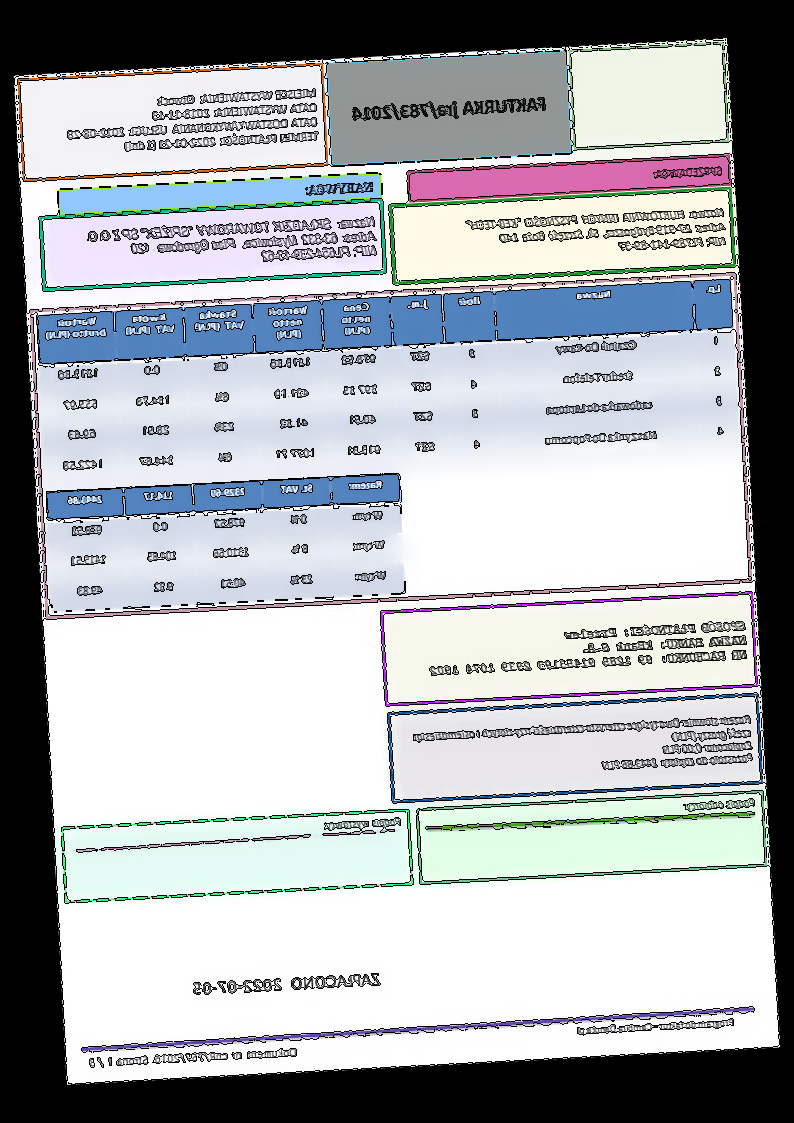Table: (36, 276, 742, 488), (46, 471, 407, 612)
TextBox: (410, 711, 756, 784), (427, 616, 748, 680), (85, 211, 380, 276), (62, 84, 321, 158), (465, 203, 729, 264), (349, 93, 550, 125), (193, 968, 383, 998), (87, 1044, 299, 1070), (574, 1014, 737, 1037), (322, 813, 405, 834), (652, 162, 727, 183), (682, 794, 757, 815), (303, 178, 377, 198)
